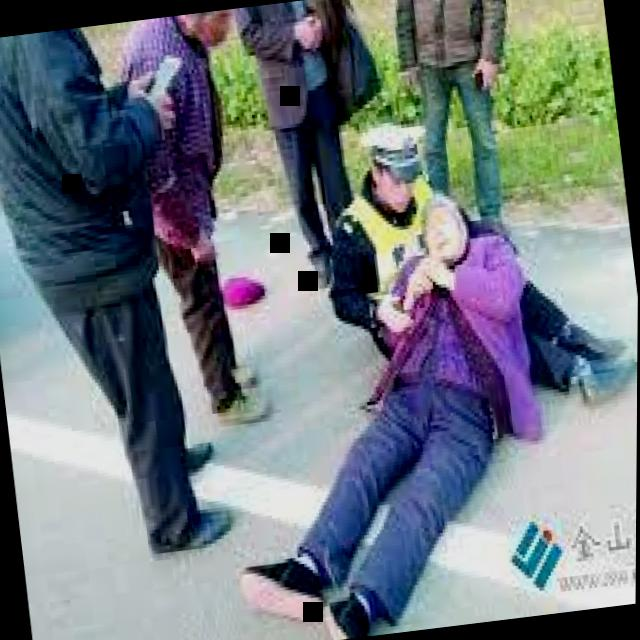Fall-Detected: (183, 170, 568, 640)
